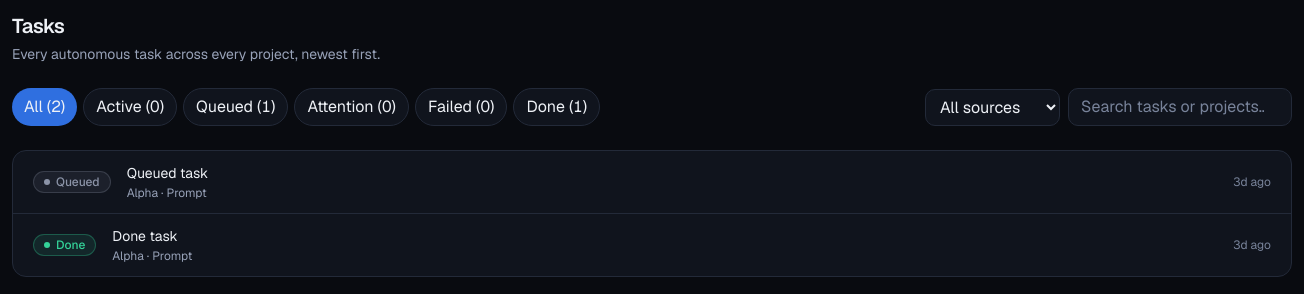
Global tasks page › filters tasks by status group
Expected: the text "Queued task" is shown, [127,164,208,182]
Expected: the text "Done task" is shown, [112,227,178,245]
Click the tab "Done (1)".
click(557, 107)  # box [513,88,600,126]
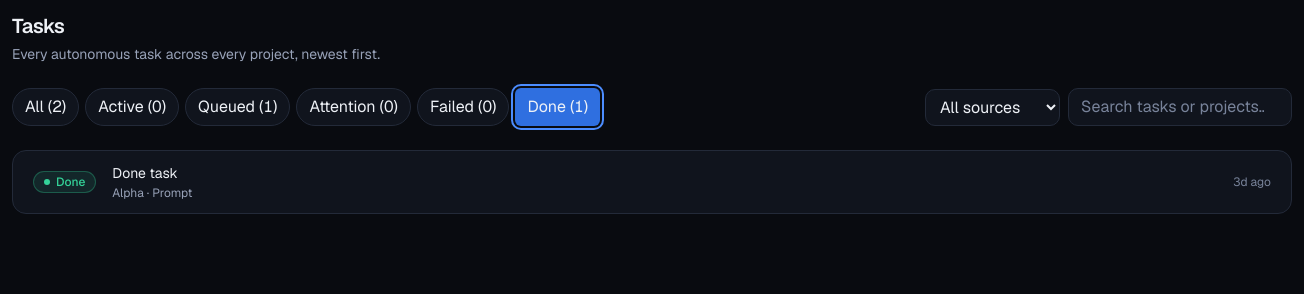
Expected: the text "Done task" is shown, [112,164,178,182]
Expected: the link "Queued task" is gone
